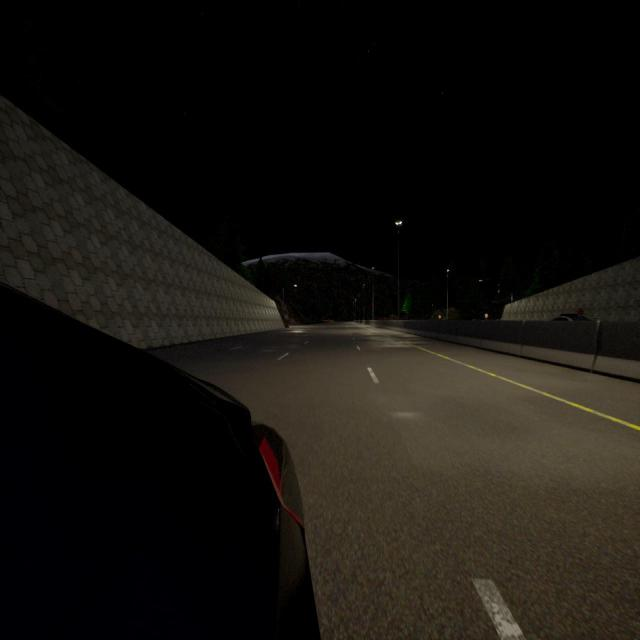Traffic_Signs: (576, 308, 584, 315), (284, 314, 288, 319), (484, 313, 488, 318), (438, 314, 442, 319)
Vehicle: (0, 280, 321, 640), (550, 313, 596, 321)
